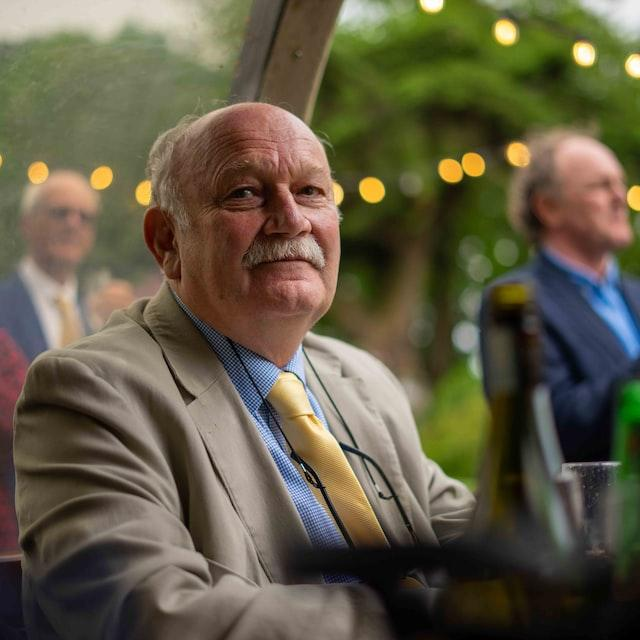crows_feet: (196, 192, 217, 215)
forehead: (212, 132, 235, 170), (242, 126, 272, 150)
frown_line: (272, 152, 294, 180)
gummy_smile: (242, 218, 270, 255)
